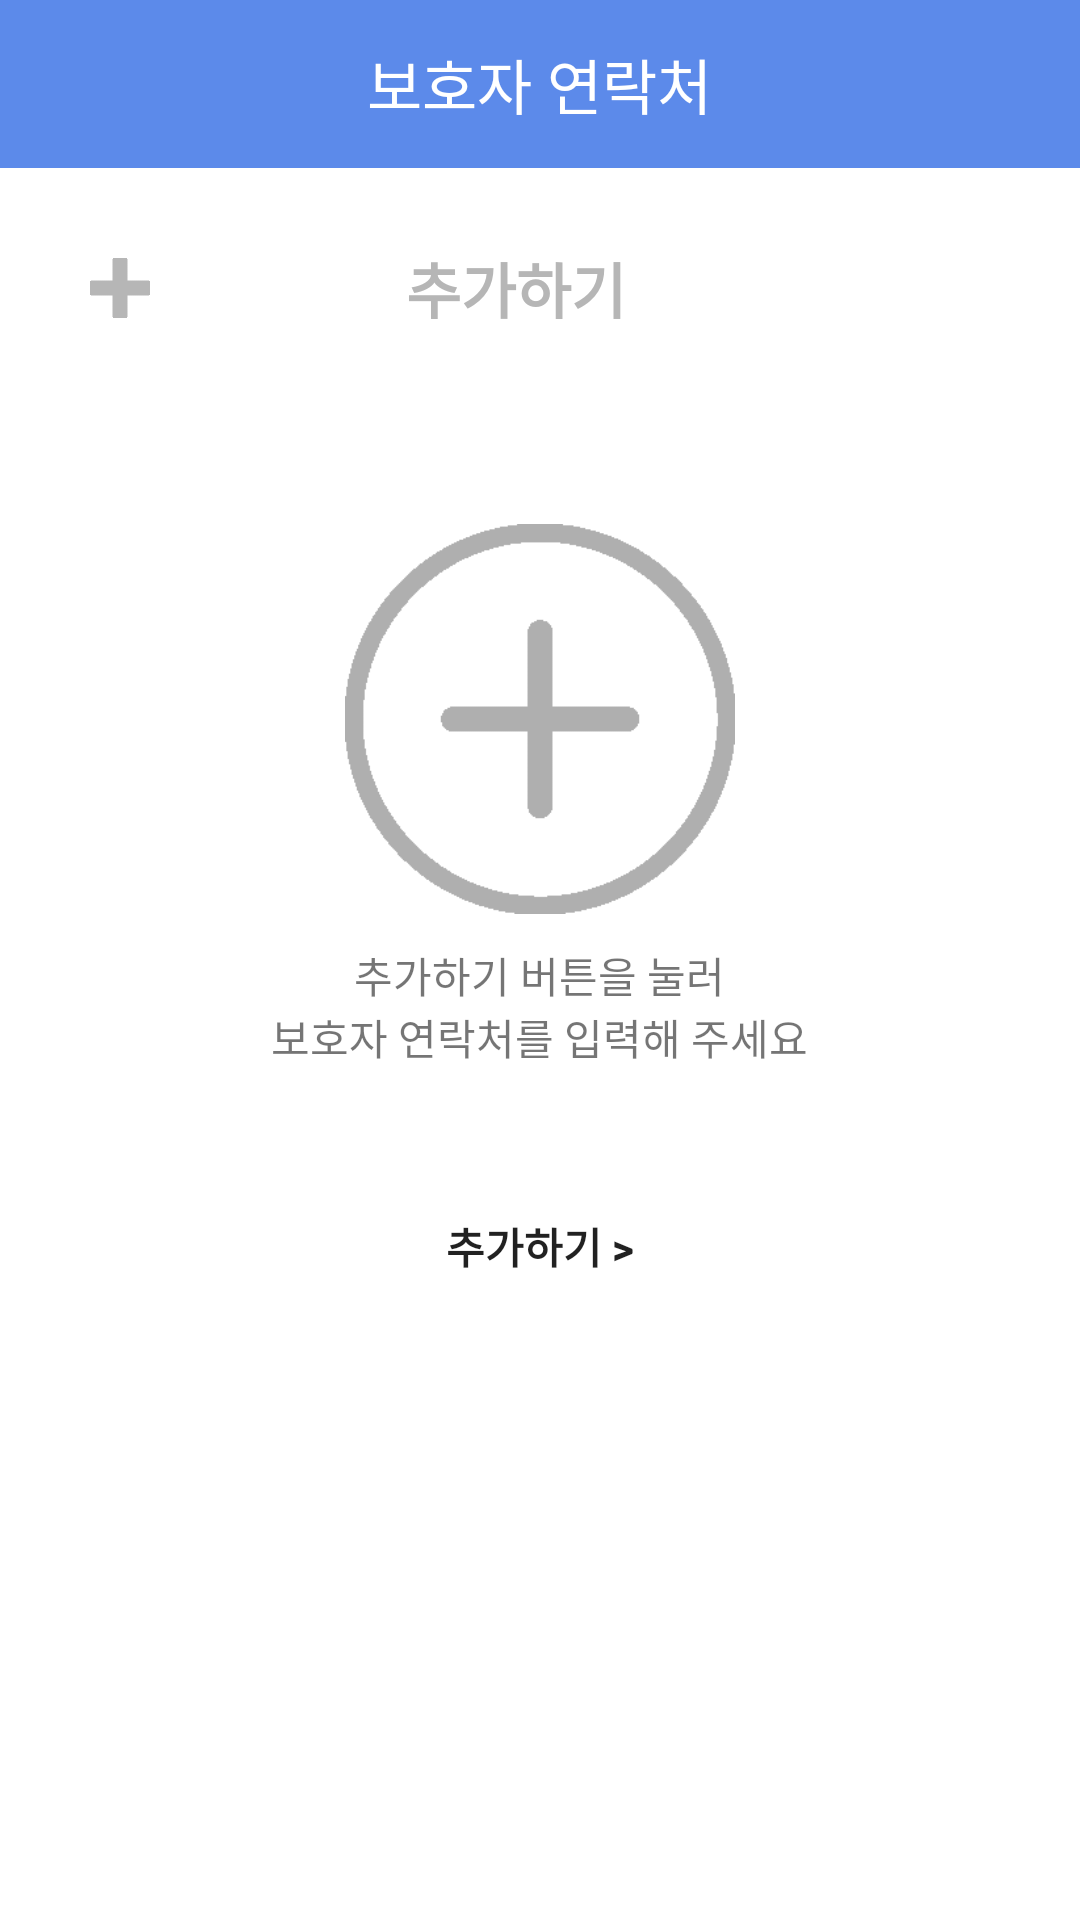

Named icons in this screenshot (1080w x 1920h) and their bounding boxes, bbox=[x1, y1, x2, y2]:
addd: bbox=[90, 258, 150, 318]
